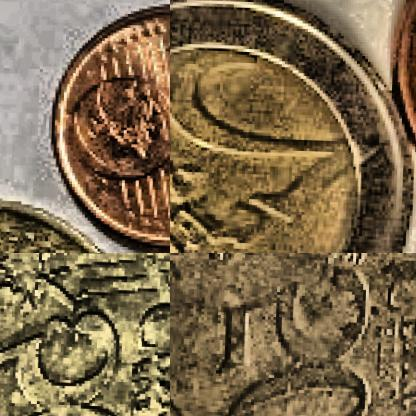coin: (170, 0, 415, 252), (170, 253, 415, 415), (47, 0, 169, 252), (0, 253, 169, 415)
